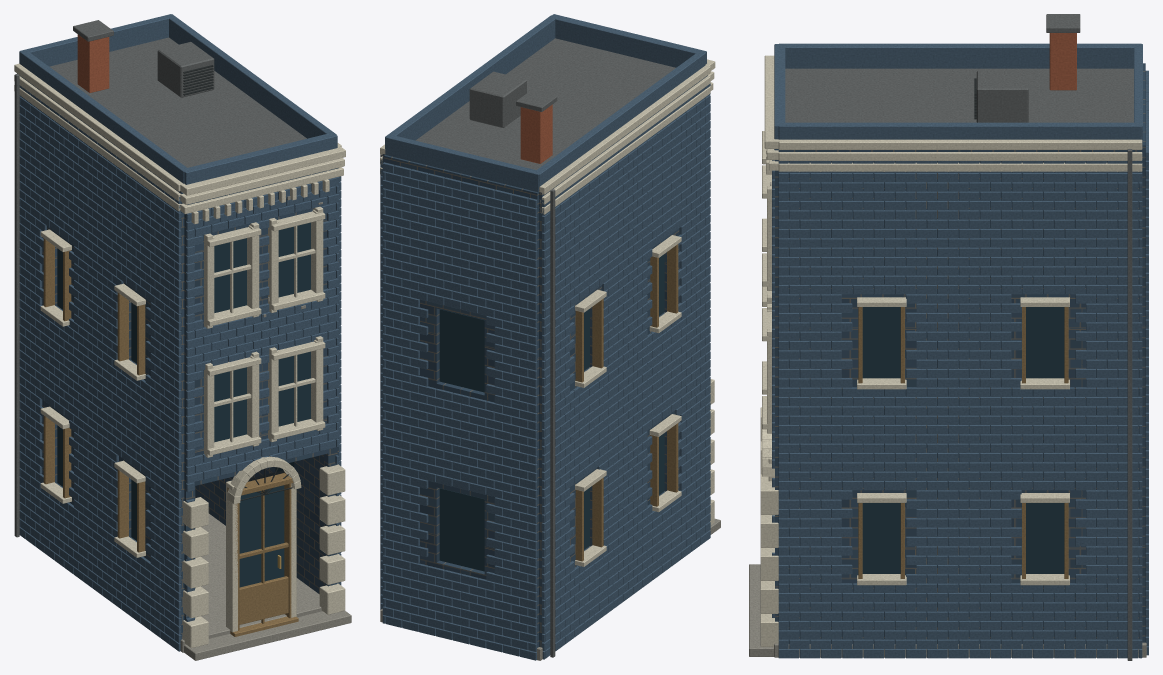
Rendered from OFFC12_lod0.glb.
3 views of the same model, side by side, from view 1: azimuth 30°, elevation 25°; view 2: azimuth 150°, elevation 25°; view 3: azimuth 270°, elevation 25° (orthographic). The views are drawn at different scales.
Visible parts, largest first — view 1: OFFC12_LOD0; view 2: OFFC12_LOD0; view 3: OFFC12_LOD0.
Boxes of the visible parts, box(x1,y1,x2,y2) form: OFFC12_LOD0: box(14, 14, 351, 660); OFFC12_LOD0: box(380, 14, 720, 660); OFFC12_LOD0: box(749, 14, 1148, 660).
Size of the model in its own units: 3.71 by 10.45 by 6.6.
13 materials, 10 textured.
